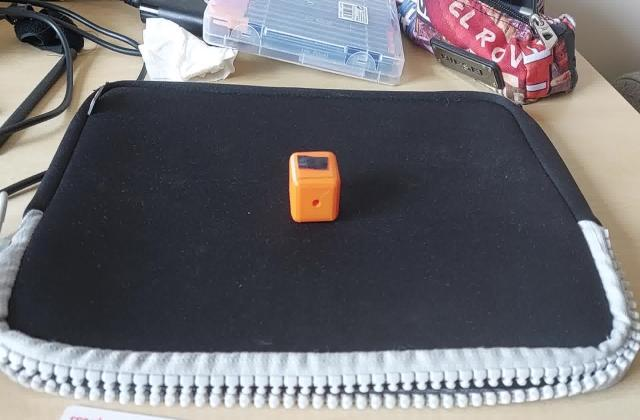black: (294, 152, 332, 174)
cube: (288, 148, 344, 224)
